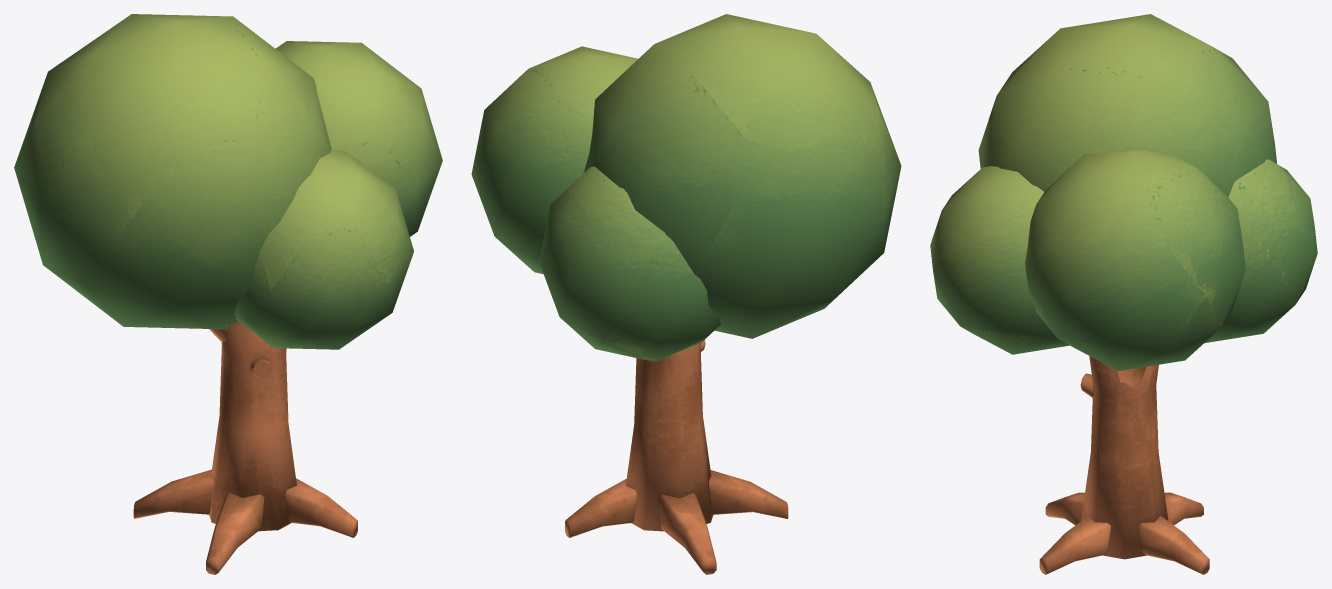
The model's file is PRP_Tree01.fbx.
3 views of the same model, side by side, from view 1: azimuth 30°, elevation 25°; view 2: azimuth 150°, elevation 25°; view 3: azimuth 270°, elevation 25° (orthographic). The views are drawn at different scales.
Parts seen in each view (by area): view 1: Icosphere.005, Icosphere.007, Icosphere.006, Cylinder, Cube.075; view 2: Icosphere.005, Icosphere.008, Icosphere.006, Cylinder, Cube.075; view 3: Icosphere.006, Icosphere.005, Icosphere.007, Cylinder, Icosphere.008, Cube.075.
Part boxes in pixels (x1,y1,x2,y2): Icosphere.005: (14, 14, 331, 329); Icosphere.007: (234, 150, 413, 349); Icosphere.006: (275, 41, 442, 236); Cylinder: (209, 321, 296, 531); Cube.075: (133, 469, 357, 574); Icosphere.005: (583, 14, 901, 338); Icosphere.008: (539, 166, 720, 361); Icosphere.006: (471, 46, 638, 274); Cylinder: (626, 340, 713, 531); Cube.075: (565, 470, 788, 574); Icosphere.006: (1025, 147, 1245, 370); Icosphere.005: (978, 14, 1276, 196); Icosphere.007: (930, 166, 1069, 354); Cylinder: (1080, 356, 1168, 559); Icosphere.008: (1204, 159, 1317, 343); Cube.075: (1039, 492, 1209, 574).
Size of the model in its own units: 822 by 1039 by 740.
2 materials, 2 textured.
